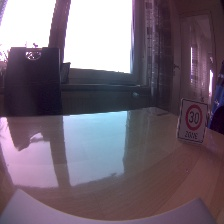dreisiger_zone: (177, 97, 208, 147)
